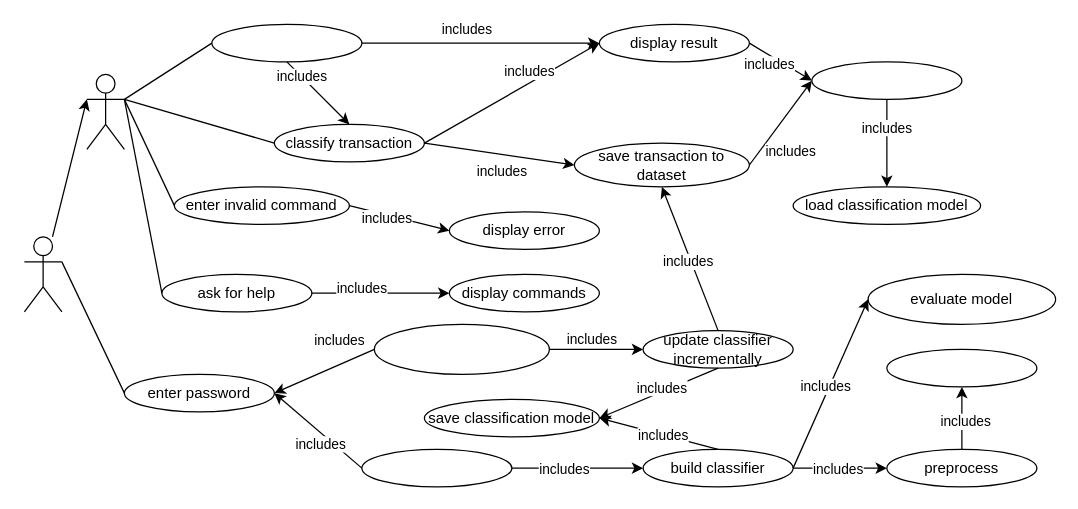
The diagram is 1078 pixels wide and 509 high, and some of its shapes have lost their labels. Each missing label, with the box of its shape:
Admin: (23, 236, 62, 312)
classify: (811, 61, 962, 99)
classify stream: (211, 23, 362, 62)
load dataset: (886, 348, 1037, 387)
retrain incremental model: (373, 323, 549, 374)
retrain model: (361, 448, 512, 487)
User: (86, 73, 124, 149)
